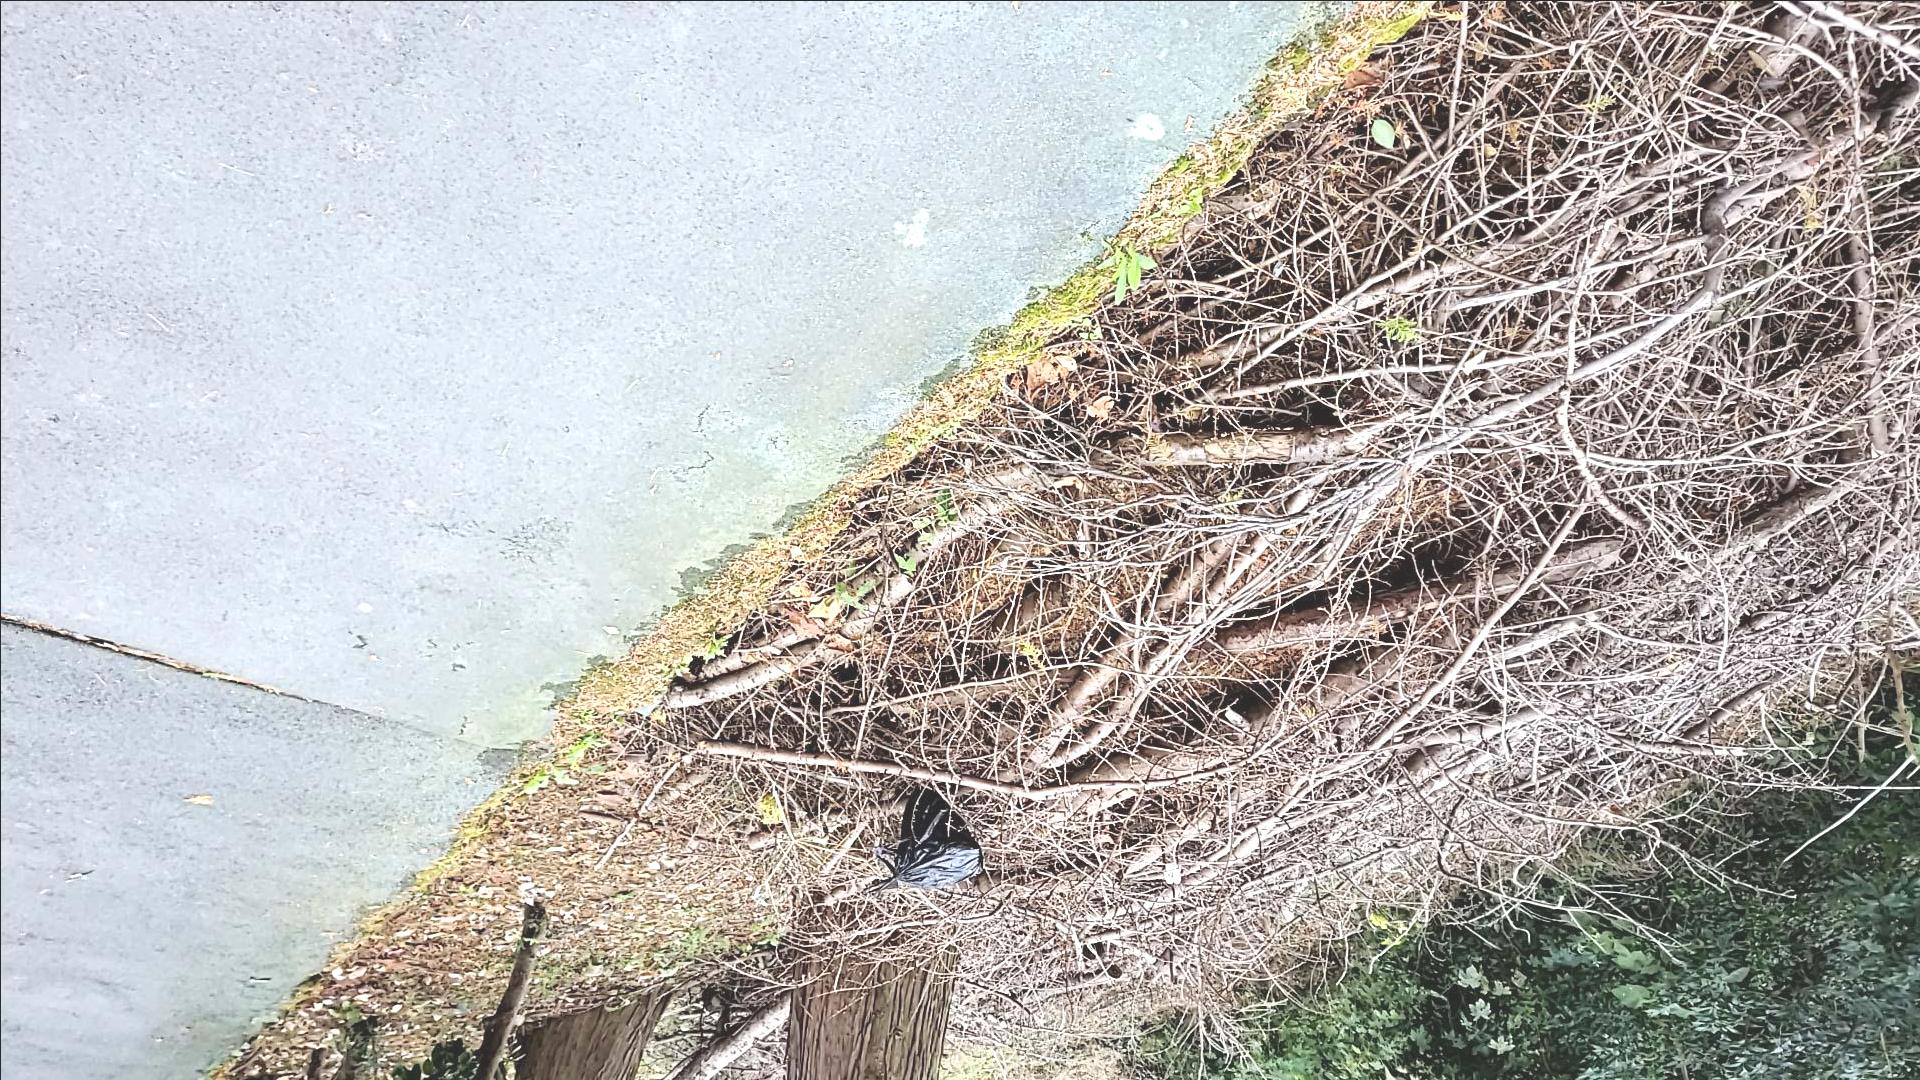black_bag: (870, 775, 994, 905)
